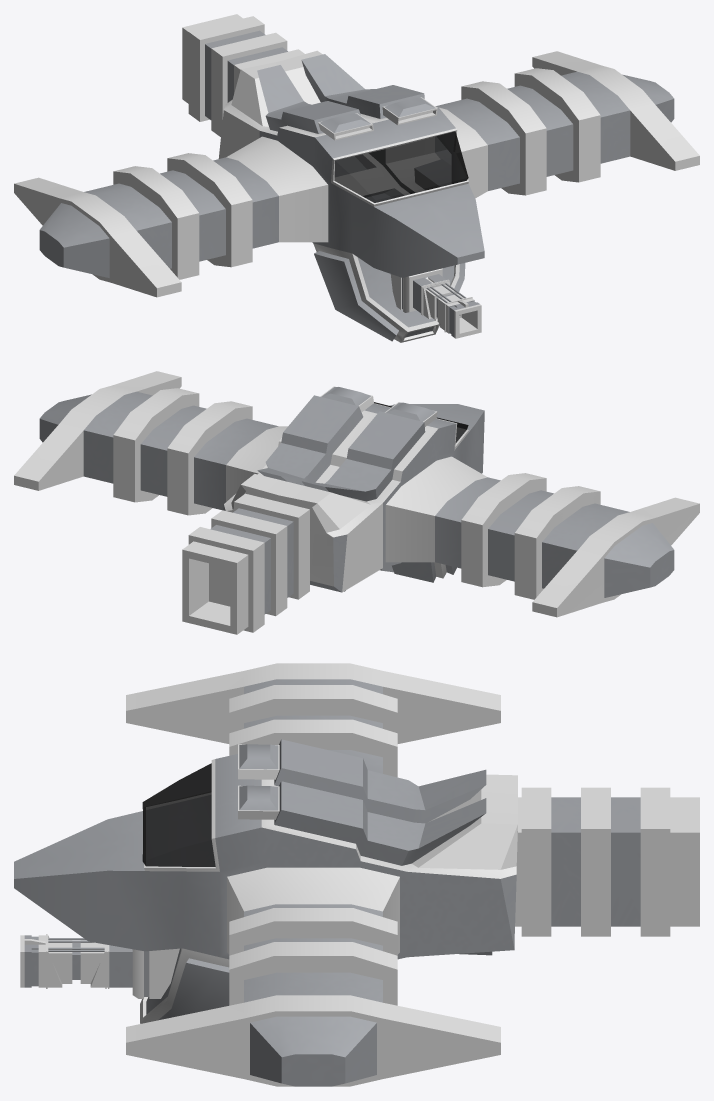
File: CBB.fbx
3 renders of one model, top to bottom at view 1: azimuth 30°, elevation 25°; view 2: azimuth 150°, elevation 25°; view 3: azimuth 270°, elevation 25°, orthographic. The views are drawn at different scales.
Visible parts, largest first — view 1: CBB; view 2: CBB; view 3: CBB.
Part boxes in pixels (box(x1,y1,x2,y2)): CBB: box(14, 14, 699, 342); CBB: box(14, 371, 699, 634); CBB: box(14, 663, 699, 1086).
Bounding box in the file's own units: 8.9 × 2.8 × 6.6.
